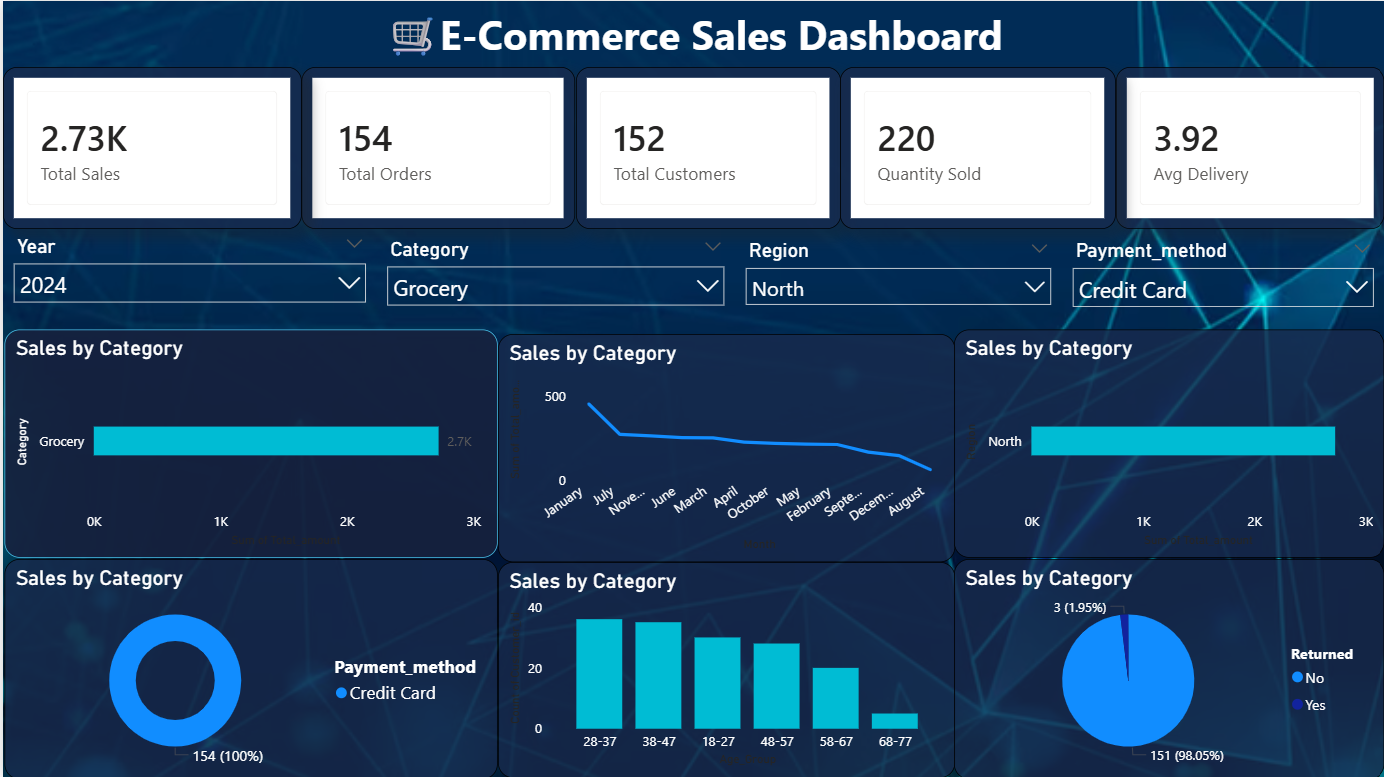

The dashboard page shown, as its layout file describes it:
{"tool":"powerbi","page":{"name":"Page 1","canvas":[1280,720],"ordinal":0},"visuals":[{"type":"textbox","box":[0,0,1279.4,60.5],"z":0},{"type":"cardVisual","fields":{"Data":["CountNonNull(raw csv.Order_id)"]},"box":[277.1,60.6,252.9,125.7],"z":1000},{"type":"cardVisual","fields":{"Data":["Count(raw csv.Customer_id)"]},"box":[530,60.6,245.3,125.7],"z":2000},{"type":"cardVisual","fields":{"Data":["Avg(raw csv.Delivery_time_days)"]},"box":[1029.7,60.6,249.8,125.7],"z":3000},{"type":"cardVisual","fields":{"Data":["Sum(raw csv.Quantity)"]},"box":[775.3,60.6,254.4,125.7],"z":4000},{"type":"cardVisual","fields":{"Data":["Sum(raw csv.Total_amount)"]},"box":[0,60.6,277.1,125.7],"z":5000},{"type":"slicer","fields":{"Values":["raw csv.Order_date.Variation.Date Hierarchy.Year"]},"box":[0,186.2,346.8,118.1],"z":6000},{"type":"slicer","fields":{"Values":["raw csv.Category"]},"box":[346.8,186.2,331.6,118.1],"z":7000},{"type":"slicer","fields":{"Values":["raw csv.Region"]},"box":[678.4,186.2,302.8,118.1],"z":8000},{"type":"slicer","fields":{"Values":["raw csv.Payment_method"]},"box":[981.2,186.2,298.3,118.1],"z":9000},{"type":"clusteredBarChart","title":"Sales by Category","fields":{"Y":["Sum(raw csv.Total_amount)"],"Category":["raw csv.Category"]},"box":[1.5,304.4,457.3,212],"z":10000},{"type":"lineChart","title":"Sales by Month","fields":{"Y":["Sum(raw csv.Total_amount)"],"Category":["raw csv.Order_date.Variation.Date Hierarchy.Month"]},"box":[458.8,304.4,424,215],"z":11000},{"type":"barChart","title":"Sales by Region","fields":{"Category":["raw csv.Region"],"Y":["Sum(raw csv.Total_amount)"]},"box":[879.8,304.4,399.8,212],"z":12000},{"type":"donutChart","title":"Orders by Payment Method","fields":{"Category":["raw csv.Payment_method"],"Y":["CountNonNull(raw csv.Order_id)"]},"box":[2,516.1,456.8,203.7],"z":13000},{"type":"clusteredColumnChart","title":"Customer Age Distribution","fields":{"Category":["raw csv.Age_Group"],"Y":["CountNonNull(raw csv.Customer_id)"]},"box":[456.9,516.7,423.6,200],"z":14000},{"type":"pieChart","title":"Return Status Distribution","fields":{"Category":["raw csv.Returned"],"Y":["CountNonNull(raw csv.Order_id)"]},"box":[881.9,513.9,398.6,202.8],"z":15000}]}

Visuals, with their boxes in screenshot pixels (x1, y1, x2, y2), scaled from the page's 1280x720 canvas onto the 1384x777 screenshot:
textbox: region(0, 0, 1383, 65)
cardVisual - CountNonNull(raw csv.Order_id): region(300, 65, 573, 201)
cardVisual - Count(raw csv.Customer_id): region(573, 65, 838, 201)
cardVisual - Avg(raw csv.Delivery_time_days): region(1113, 65, 1383, 201)
cardVisual - Sum(raw csv.Quantity): region(838, 65, 1113, 201)
cardVisual - Sum(raw csv.Total_amount): region(0, 65, 300, 201)
slicer - raw csv.Order_date.Variation.Date Hierarchy.Year: region(0, 201, 375, 328)
slicer - raw csv.Category: region(375, 201, 734, 328)
slicer - raw csv.Region: region(734, 201, 1061, 328)
slicer - raw csv.Payment_method: region(1061, 201, 1383, 328)
"Sales by Category" clusteredBarChart: region(2, 328, 496, 557)
"Sales by Month" lineChart: region(496, 328, 955, 561)
"Sales by Region" barChart: region(951, 328, 1383, 557)
"Orders by Payment Method" donutChart: region(2, 557, 496, 776)
"Customer Age Distribution" clusteredColumnChart: region(494, 558, 952, 773)
"Return Status Distribution" pieChart: region(954, 555, 1383, 773)
